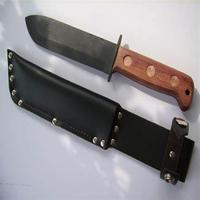knife: (22, 8, 194, 105)
